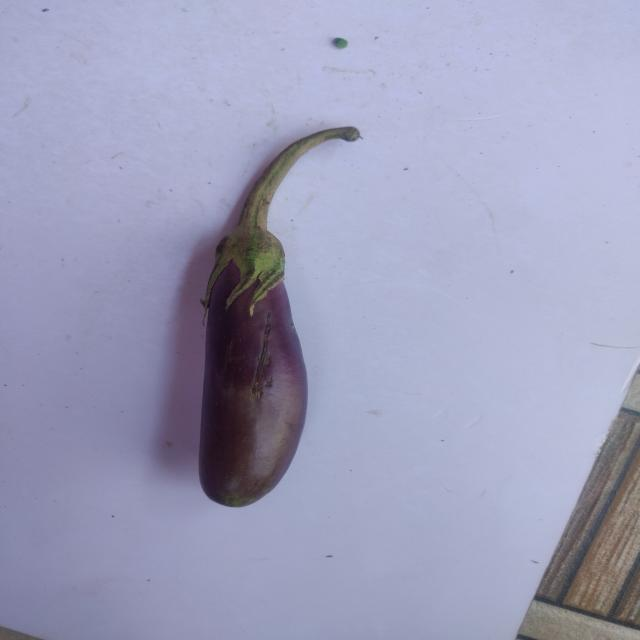Brinjal: (176, 106, 374, 516)
